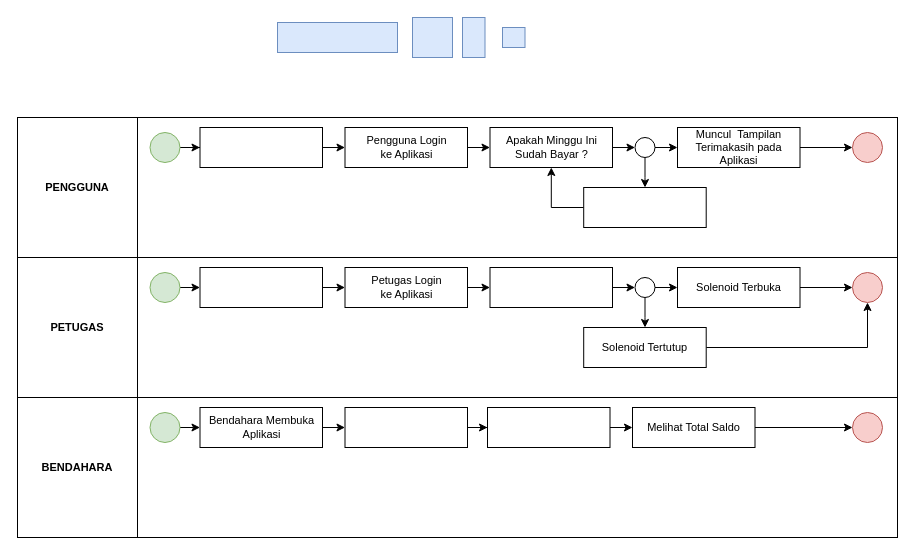
The diagram is 915 pixels wide and 555 high, and some of its shapes have lost their labels. The shapes that lost their labels are listed below. From the top down, each one's centre as x and y in pixels, then its label:
At pixel 260 147: "Pengguna Membuka Aplikasi".
At pixel 644 207: "Muncul Notifikasi pada Aplikasi".
At pixel 260 287: "Petugas Membuka Aplikasi".
At pixel 550 287: "Button Buka di Tekan".
At pixel 406 427: "Bendahara Login ke Aplikasi".
At pixel 548 427: "Memilih Pilihan Kotak pada Aplikasi".
